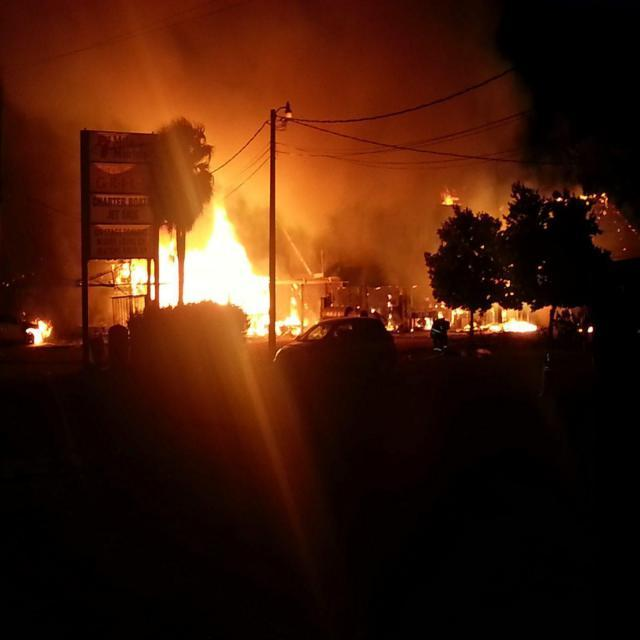Fire: (131, 200, 300, 353), (377, 282, 550, 338)
